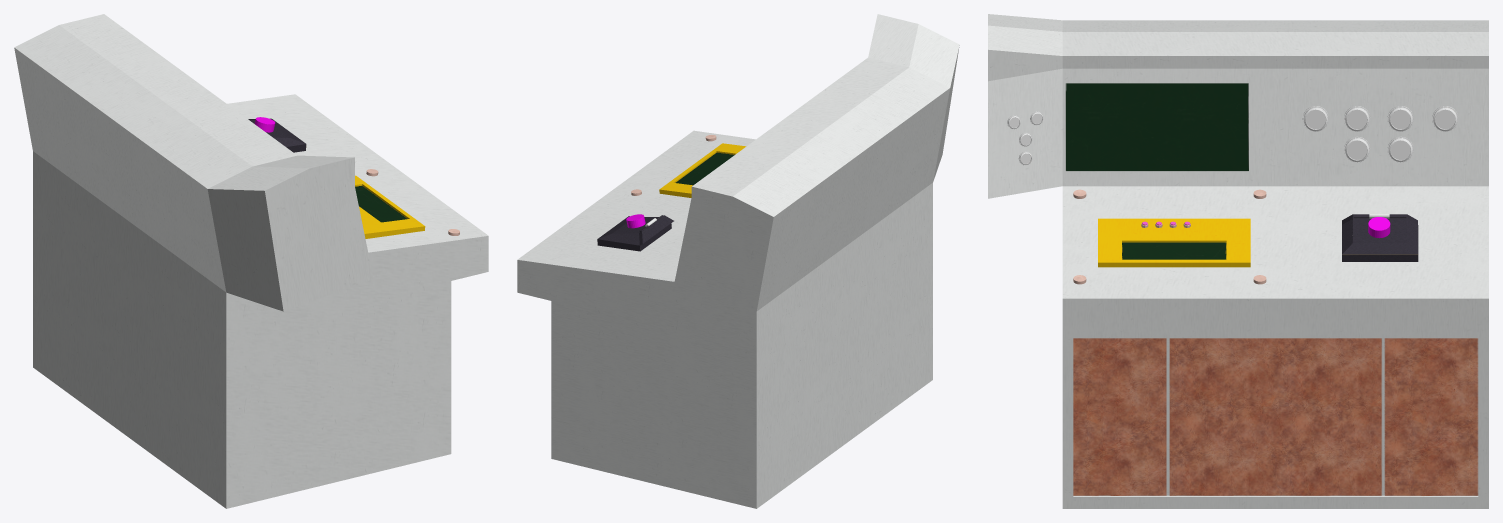
The model's file is Control Panel_Left.fbx.
3 views of the same model, side by side, from view 1: azimuth 30°, elevation 25°; view 2: azimuth 150°, elevation 25°; view 3: azimuth 270°, elevation 25° (orthographic). The views are drawn at different scales.
Parts seen in each view (by area): view 1: ControlPanelLeft; view 2: ControlPanelLeft; view 3: ControlPanelLeft.
Part boxes in pixels (left/top/right/bottom): ControlPanelLeft: left=14, top=14, right=488, bottom=508; ControlPanelLeft: left=517, top=14, right=959, bottom=508; ControlPanelLeft: left=988, top=14, right=1488, bottom=508.
Size of the model in its own units: 120 by 144 by 168.
